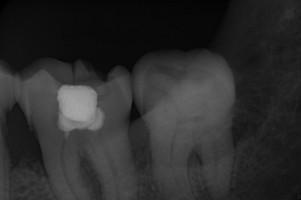Endo-Periodontal Lesion: (80, 159, 102, 200), (188, 149, 203, 168)
